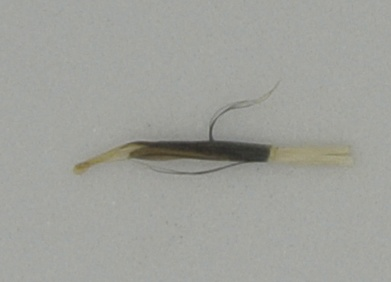เมล้ดปลายพู่กัน: (69, 78, 355, 179)
